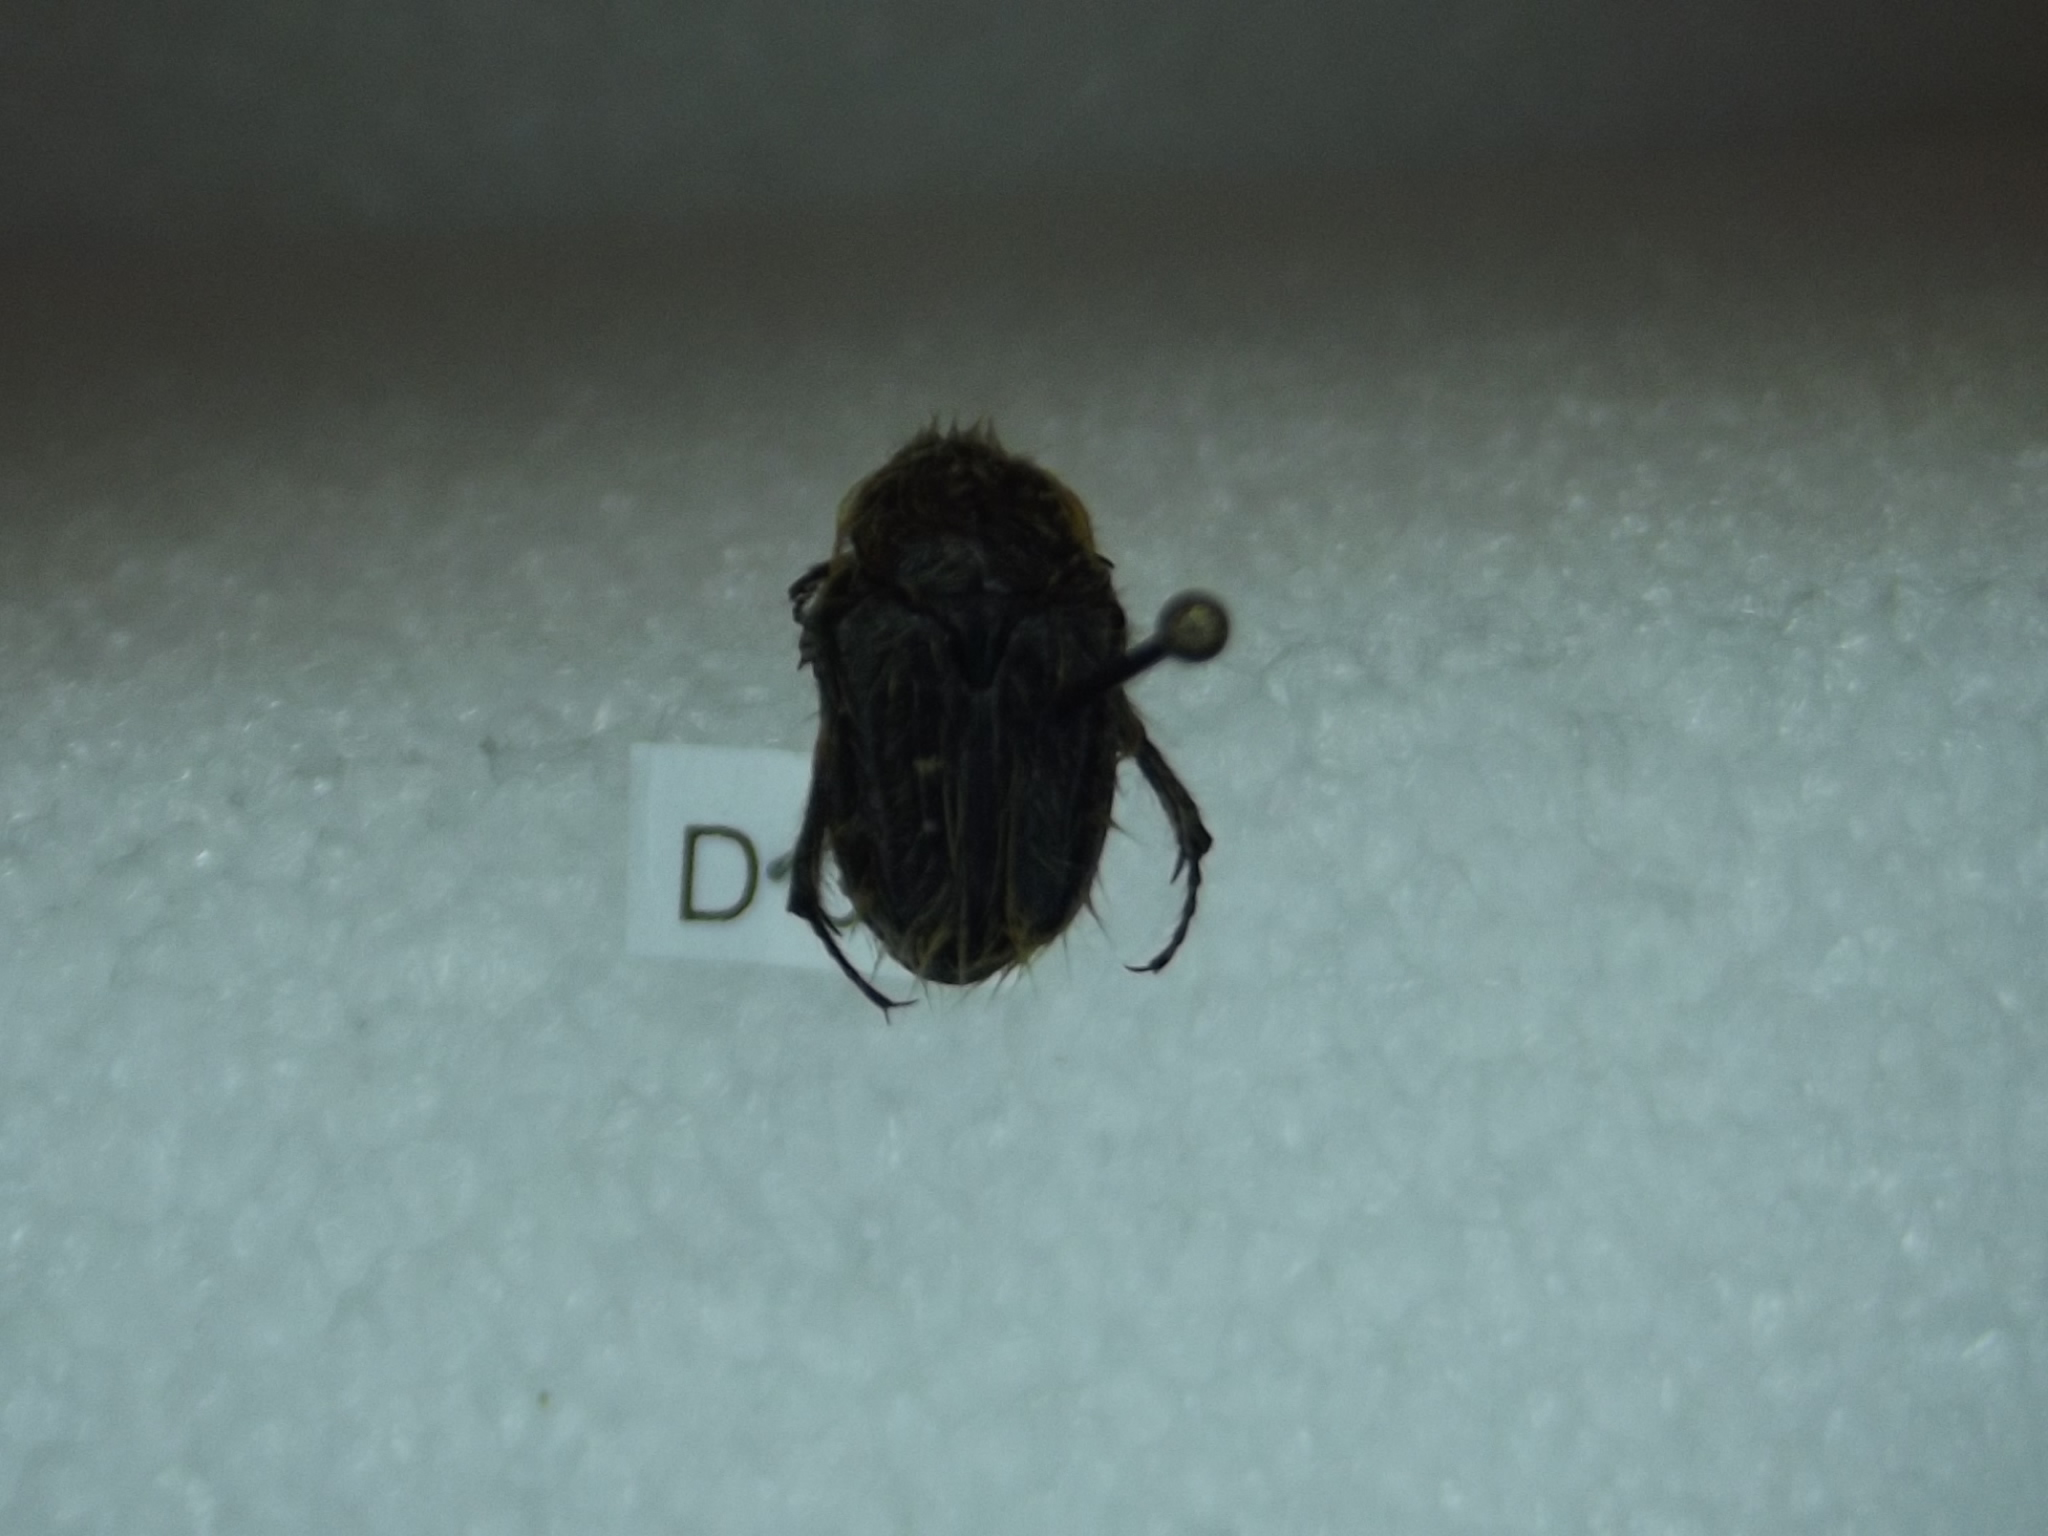Tropinota_senicula: (756, 421, 1256, 1008)
